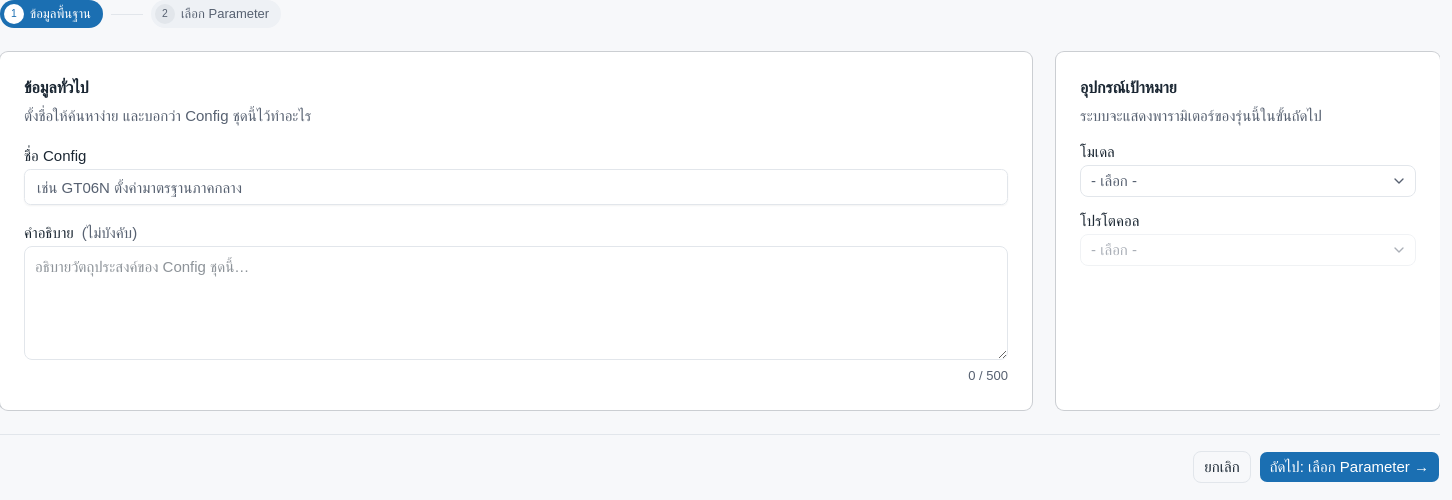
Test: ConfigWizard: ล็อกโปรโตคอลตามทะเบียนโมเดล (รีวิวพี่เลี้ยง 19 ต.ค.) › ทะเบียนรองรับโปรโตคอลที่พารามิเตอร์ยังไม่มี: ยังเลือกได้ตามทะเบียน
Click the dropdown named "โมเดล" at (1114, 180), box top-left (1080, 165), bottom-right (1416, 197)
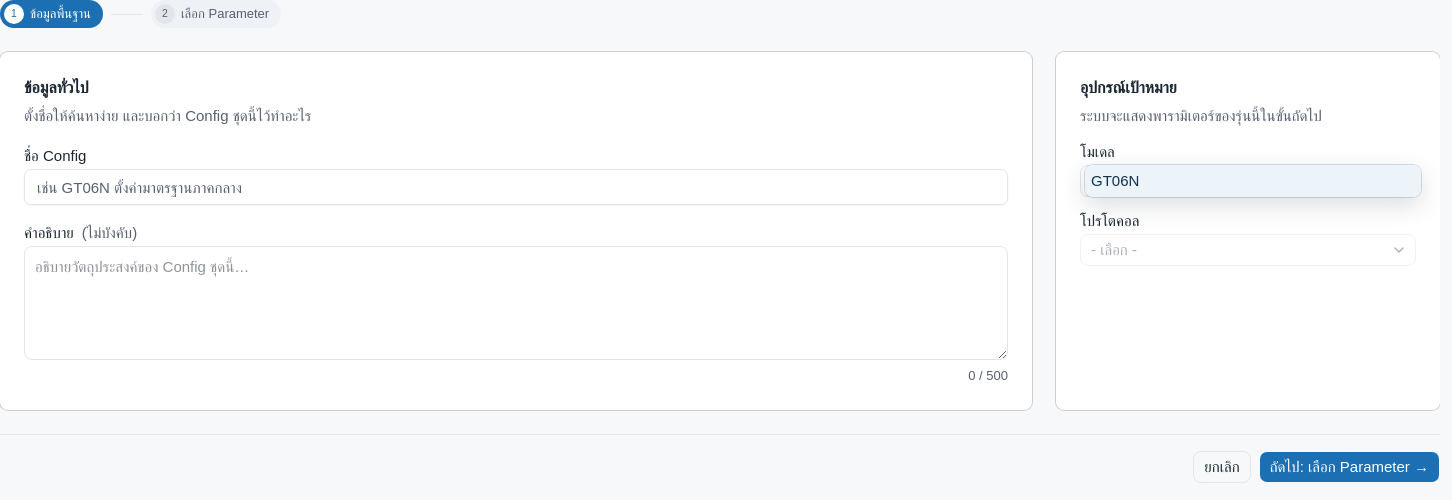
Click the option "GT06N" at (1115, 180), box top-left (1085, 165), bottom-right (1421, 197)
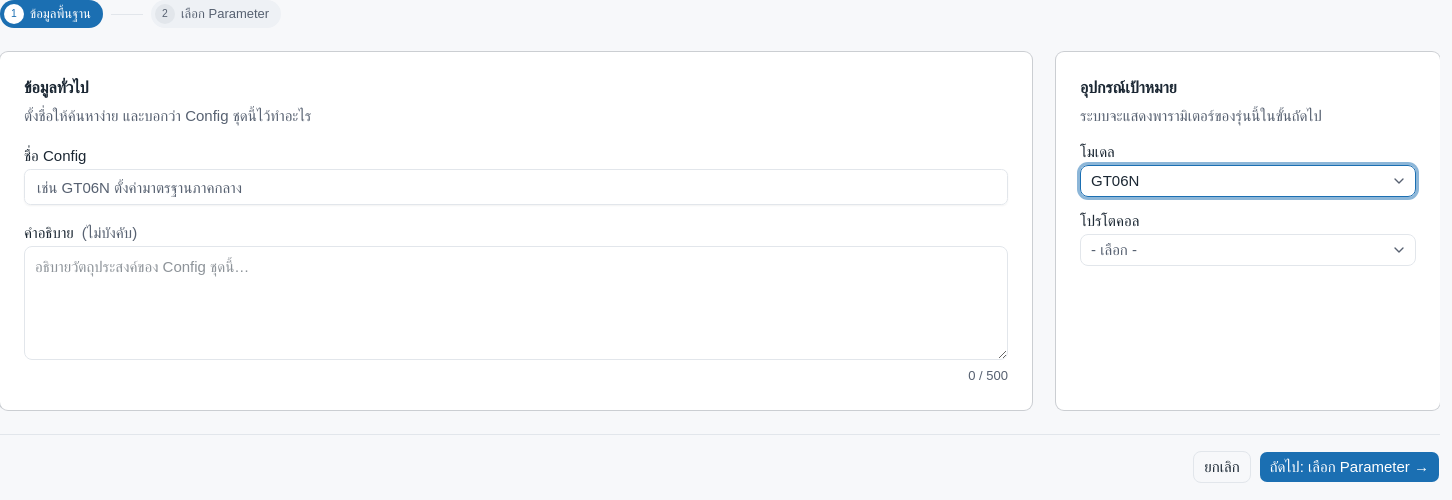
Click the dropdown named "โปรโตคอล" at (1114, 250), box top-left (1080, 234), bottom-right (1416, 266)
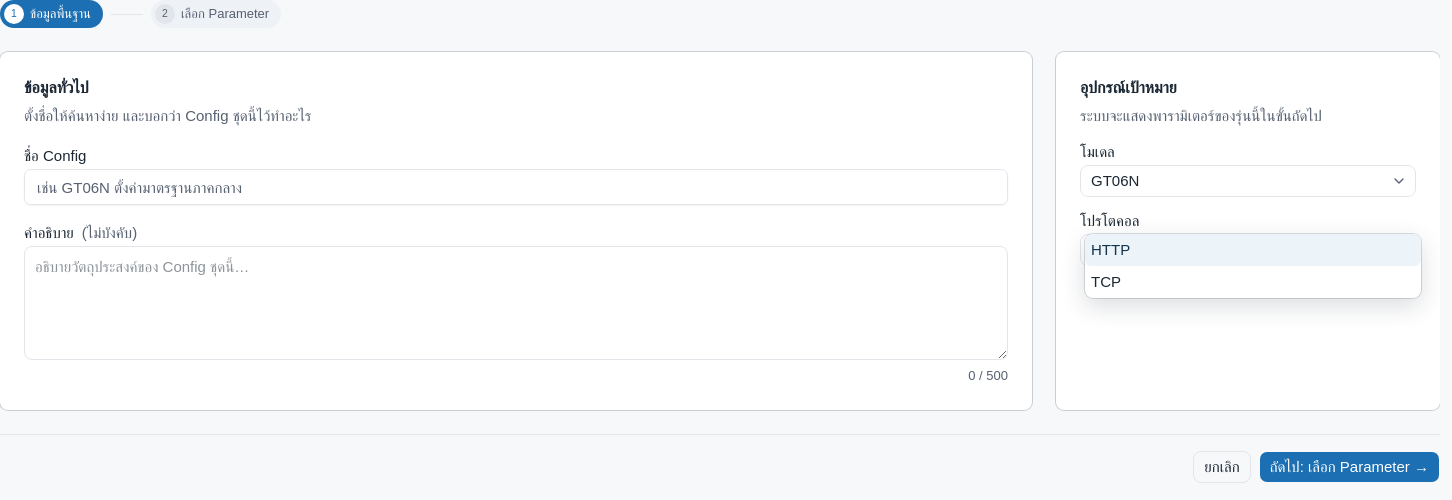
Now the option "HTTP" is shown, box top-left (1085, 234), bottom-right (1421, 266)
